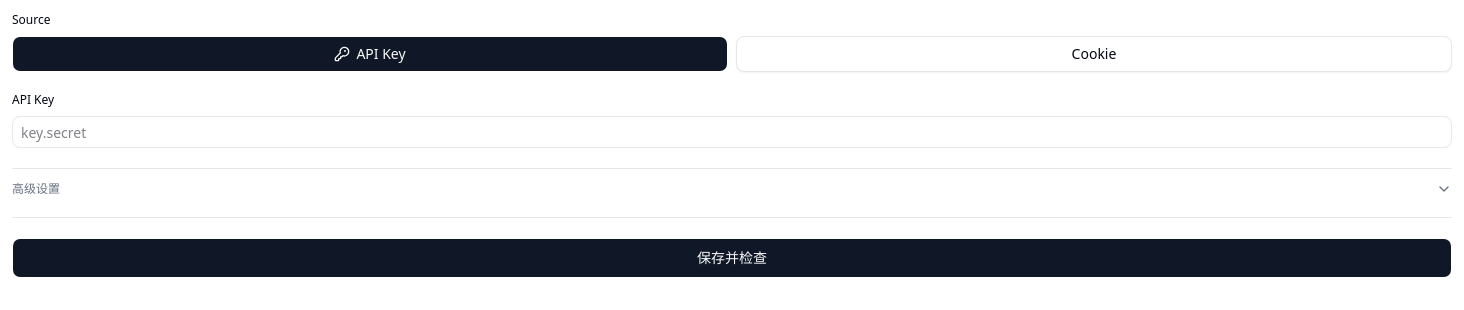
Test case: ProviderConfigFields › retains unsaved input for another method after saving the selected method
Check: the password field labelled "API Key" is shown, box [12,116,1452,148]
Click the radio button labelled "Cookie": (1094, 54) [736,36,1452,72]
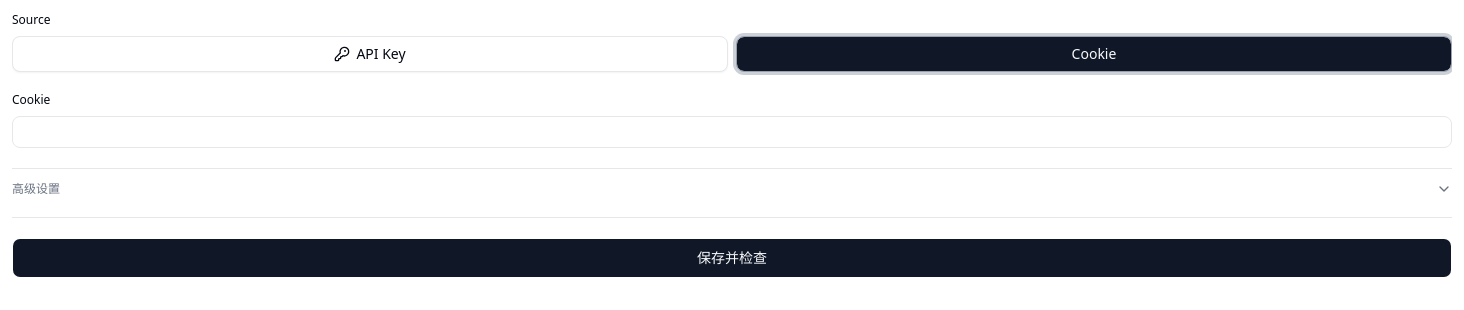
In the password field labelled "Cookie": (732, 132) [12,116,1452,148], type "unsaved-cookie"
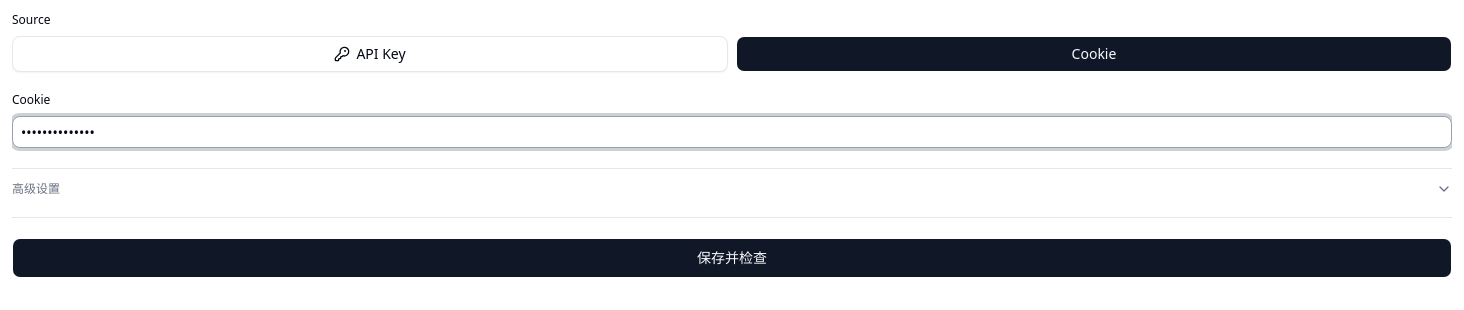
Click the radio button labelled "API Key": (370, 54) [12,36,728,72]
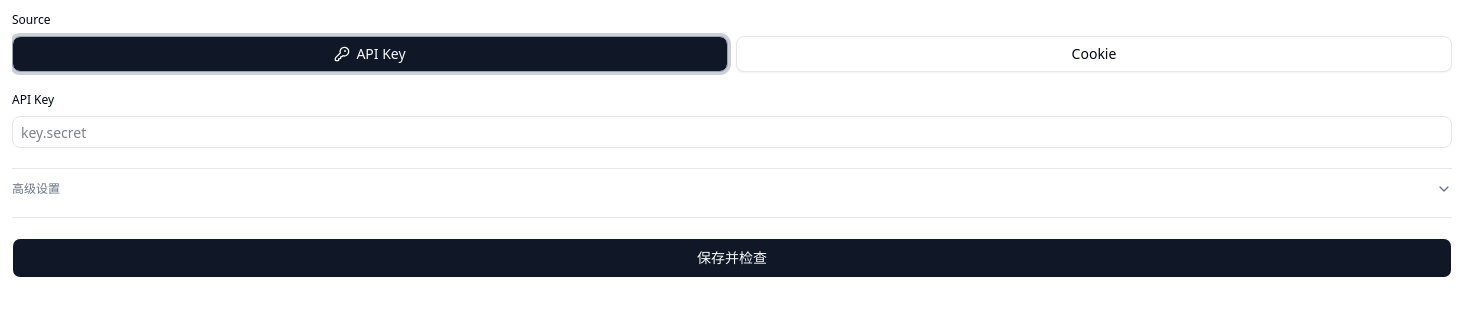
In the password field labelled "API Key": (732, 132) [12,116,1452,148], type "selected-key"
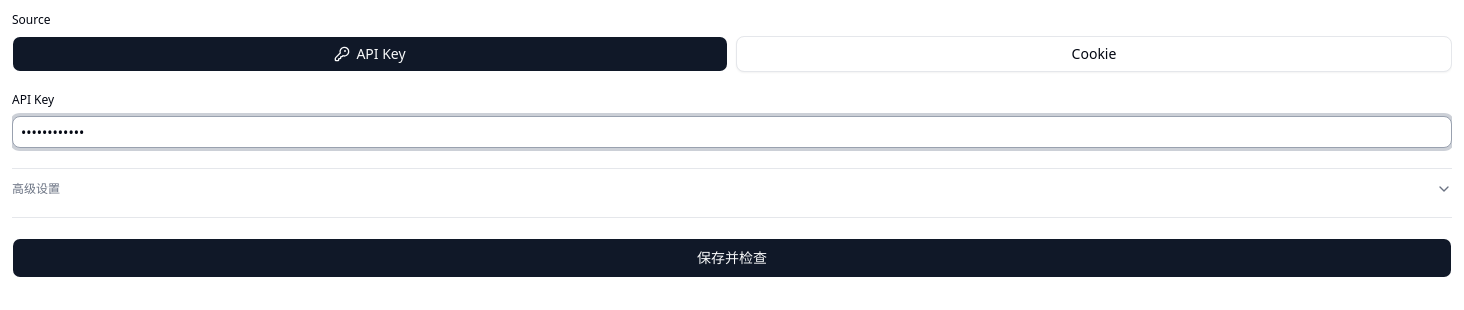
Click the button "保存并检查": (732, 258) [12,238,1452,278]
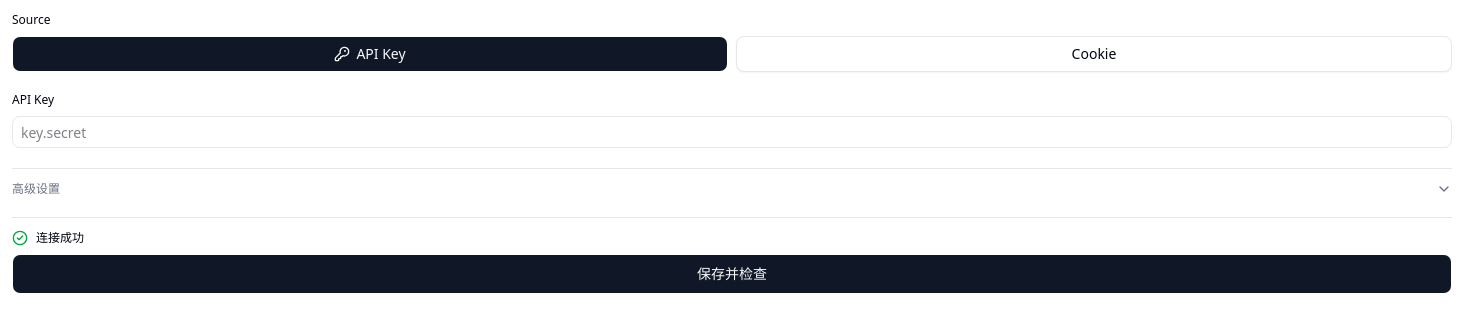
Check: the text "连接成功" is shown, box [12,229,84,246]
Check: the password field labelled "API Key" is empty, box [12,116,1452,148]
Click the radio button labelled "Cookie": (1094, 54) [736,36,1452,72]
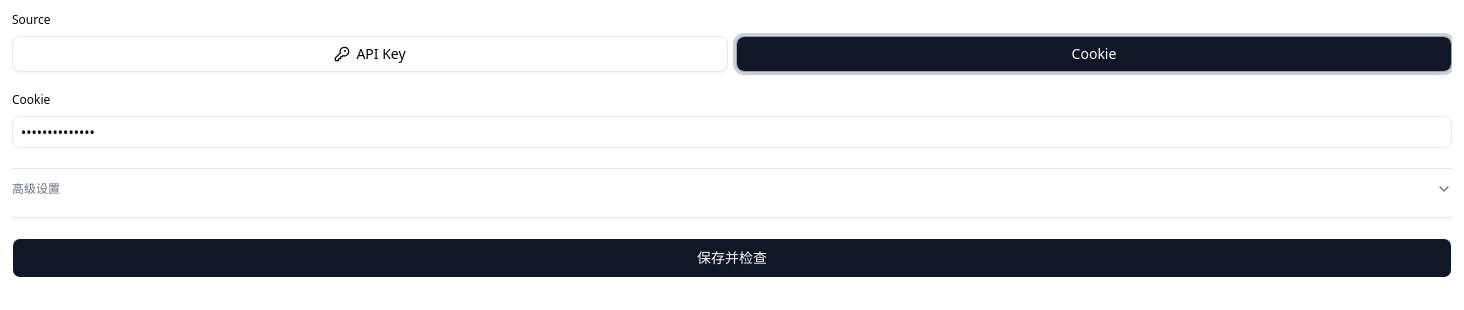
Check: the password field labelled "Cookie" holds "unsaved-cookie", box [12,116,1452,148]
Check: the text "连接成功" is gone
